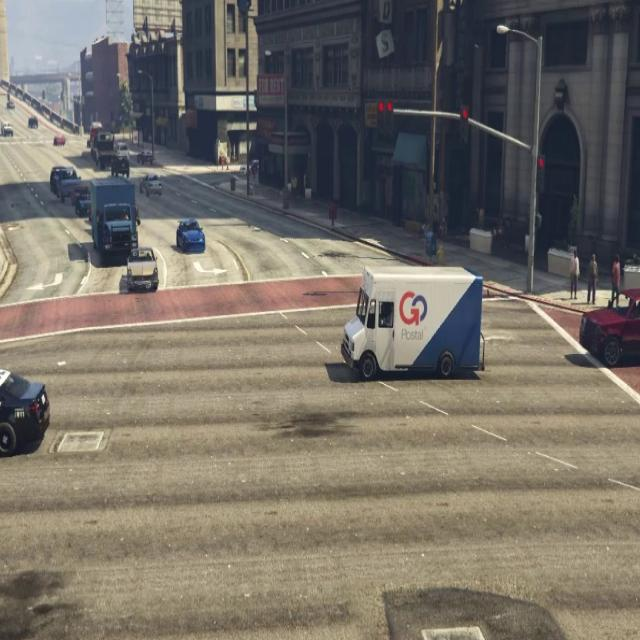Red-Signal: (373, 87, 400, 153), (526, 133, 554, 195), (454, 96, 476, 153)
